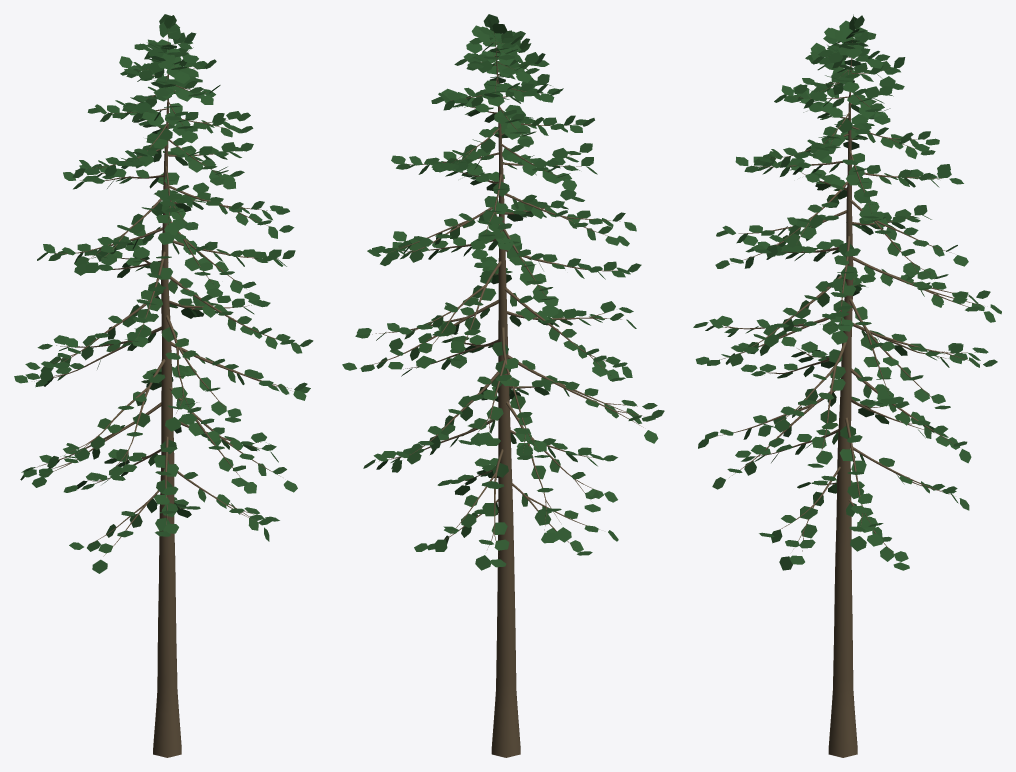
The model's file is Douglas_Fir_3.glb.
3 views of the same model, side by side, from view 1: azimuth 30°, elevation 25°; view 2: azimuth 150°, elevation 25°; view 3: azimuth 270°, elevation 25° (orthographic).
Visible parts, largest first — view 1: leaves, tree; view 2: leaves, tree; view 3: leaves, tree.
Boxes of the visible parts, x1,y1,x2,y2 form: leaves: (14, 14, 313, 573); tree: (34, 31, 291, 757); leaves: (342, 14, 664, 570); tree: (364, 32, 643, 757); leaves: (693, 14, 1001, 570); tree: (710, 36, 981, 757).
Size of the model in its own units: 19 by 50.5 by 19.1.
